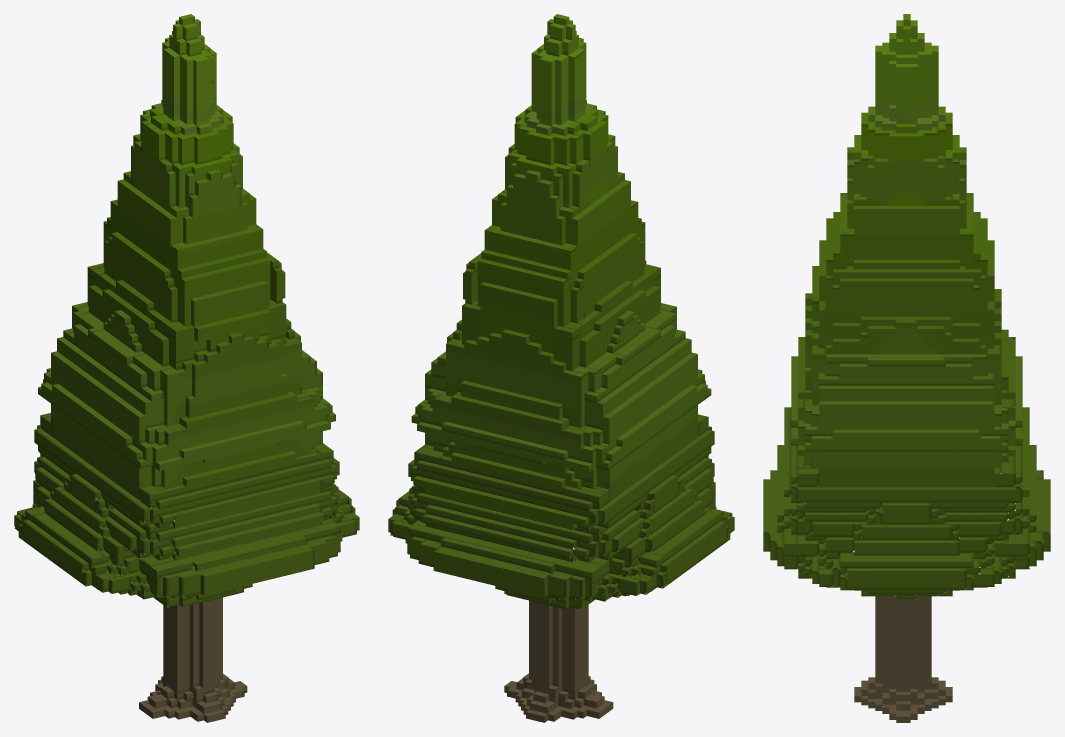
Rendered from pine_tree_summer.fbx.
3 views of the same model, side by side, from view 1: azimuth 30°, elevation 25°; view 2: azimuth 150°, elevation 25°; view 3: azimuth 270°, elevation 25° (orthographic).
Parts seen in each view (by area): view 1: pine_tree_summer; view 2: pine_tree_summer; view 3: pine_tree_summer.
Boxes of the visible parts, left/top/right/bottom form: pine_tree_summer: left=14, top=14, right=359, bottom=722; pine_tree_summer: left=388, top=14, right=734, bottom=722; pine_tree_summer: left=763, top=14, right=1050, bottom=722.
Size of the model in its own units: 516 by 1254 by 481.
Materials: 1 (1 with a texture image).
